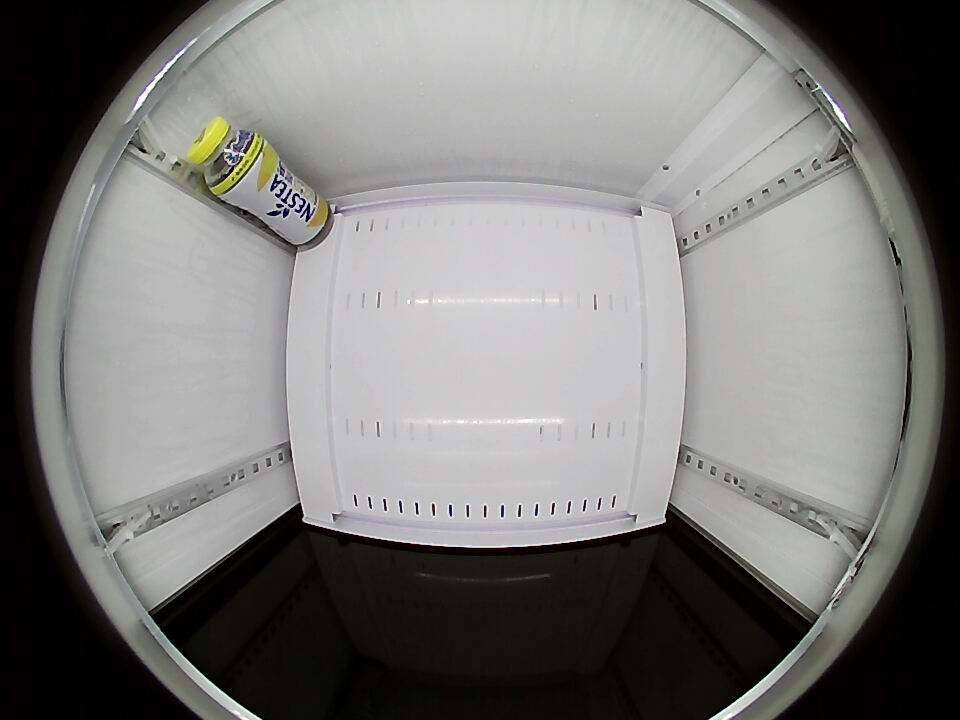chacui: (186, 118, 269, 200)
